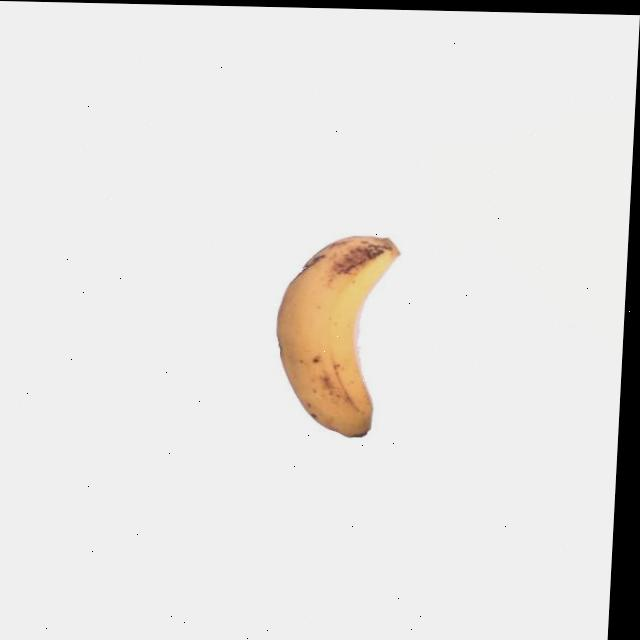banana: (267, 228, 407, 441)
